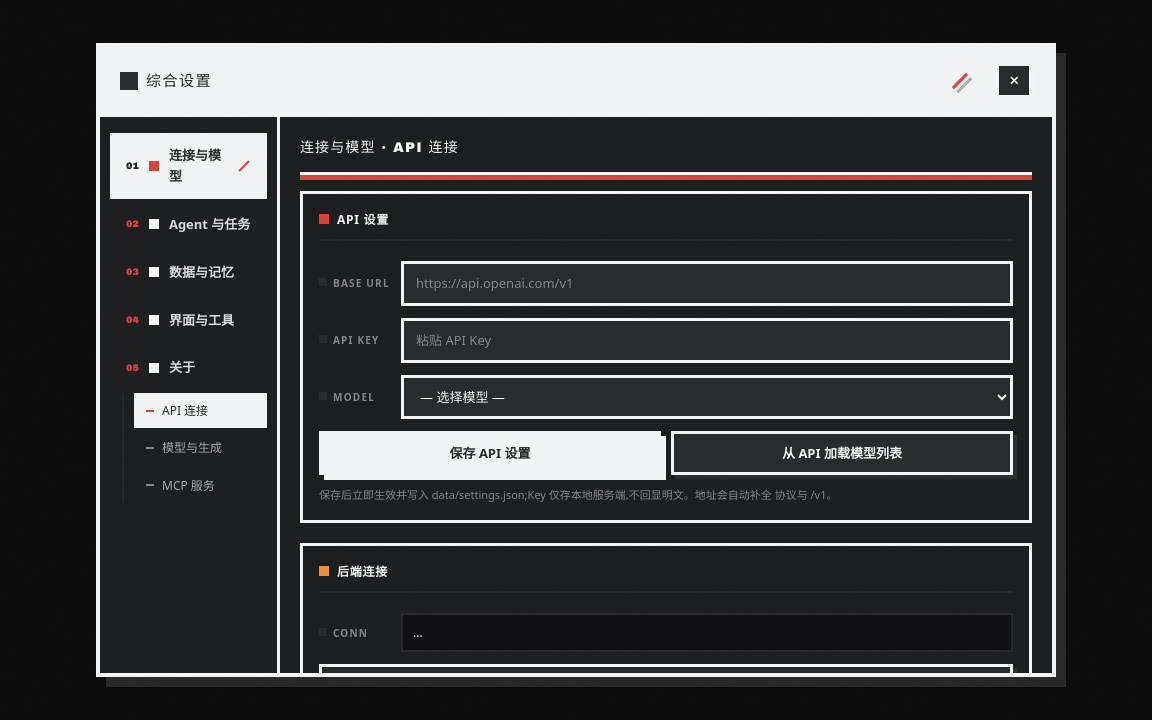
Test: SettingsHub 组件(阶段 A 补测) › 任务模式下「执行流程」入口可见(IFW-3 回归)
The image size is (1152, 720).
Step 1. Click the button with class "sv-hub-nav-item" showing "02 Agent 与任务" → (188, 224), box [110,202,267,247]
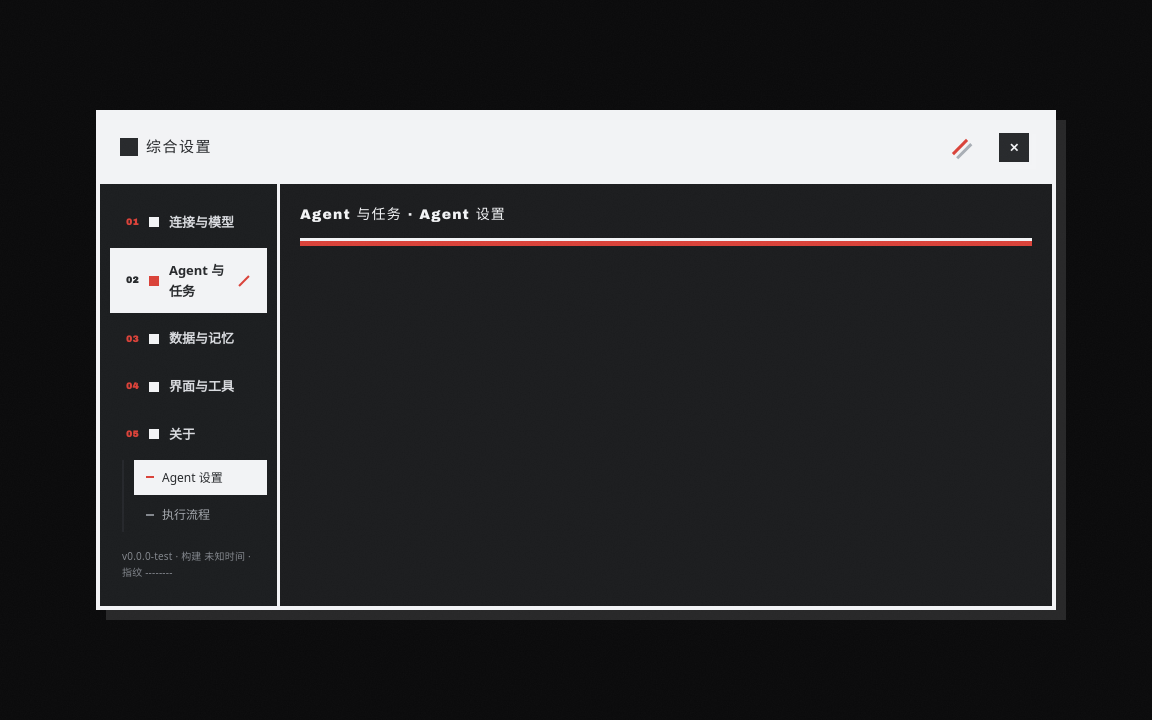
Result: the text with class "hub-sub-item" reads "执行流程" at [162,506,210,523]
